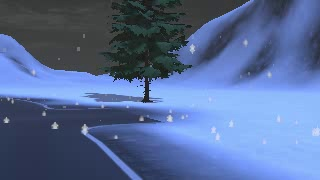Lane: (0, 98, 162, 179)
